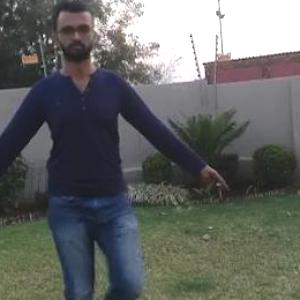land: (1, 33, 200, 299)
